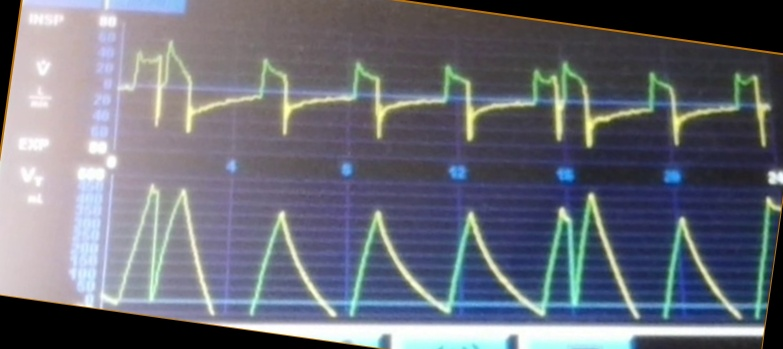Double_Triggering Flow: (124, 38, 684, 151)
Double_Triggering Volume: (104, 180, 666, 318)
